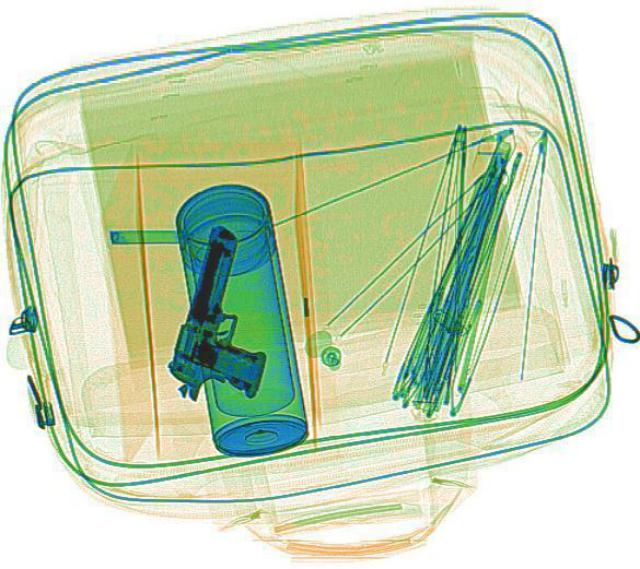Gun: (158, 222, 304, 409)
